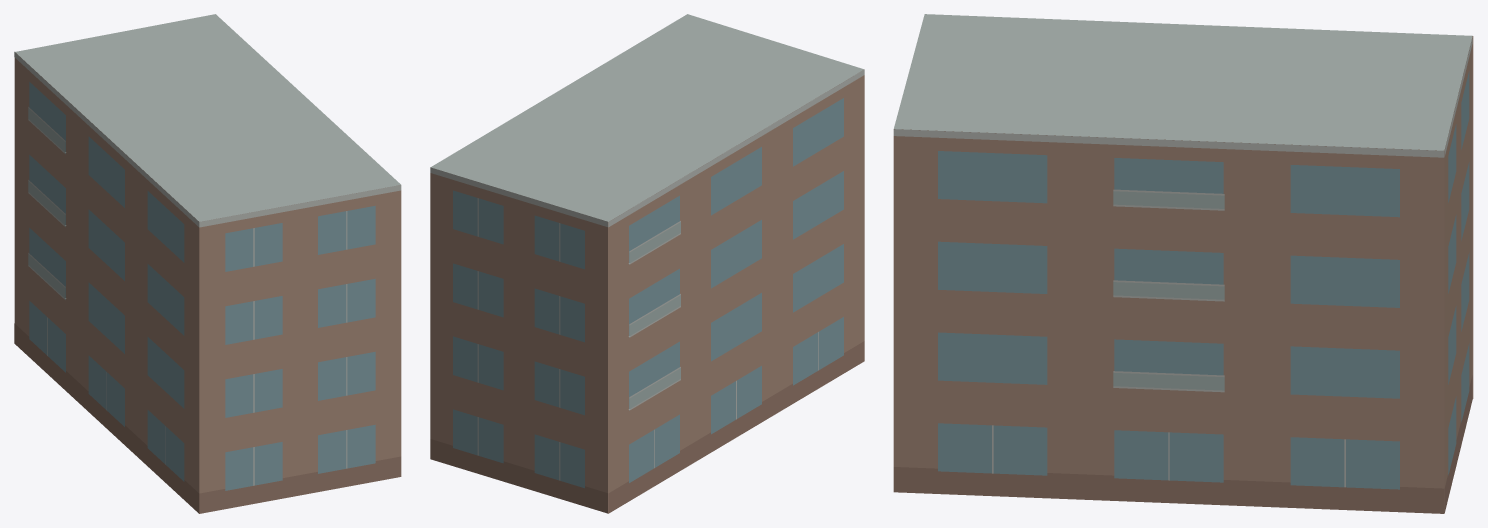
File: survey-upis-32566188.glb
The picture shows the model from 3 angles, left to right: view 1: azimuth 30°, elevation 25°; view 2: azimuth 150°, elevation 25°; view 3: azimuth 270°, elevation 25°; orthographic projection. The views are drawn at different scales.
Visible parts, largest first — view 1: survey-upis-32566188.tmp; view 2: survey-upis-32566188.tmp; view 3: survey-upis-32566188.tmp.
Boxes of the visible parts, x1,y1,x2,y2 form: survey-upis-32566188.tmp: (14, 14, 401, 513); survey-upis-32566188.tmp: (430, 14, 864, 513); survey-upis-32566188.tmp: (893, 14, 1473, 513).
Bounding box in the file's own units: 10.27 × 12.7 × 18.39.
